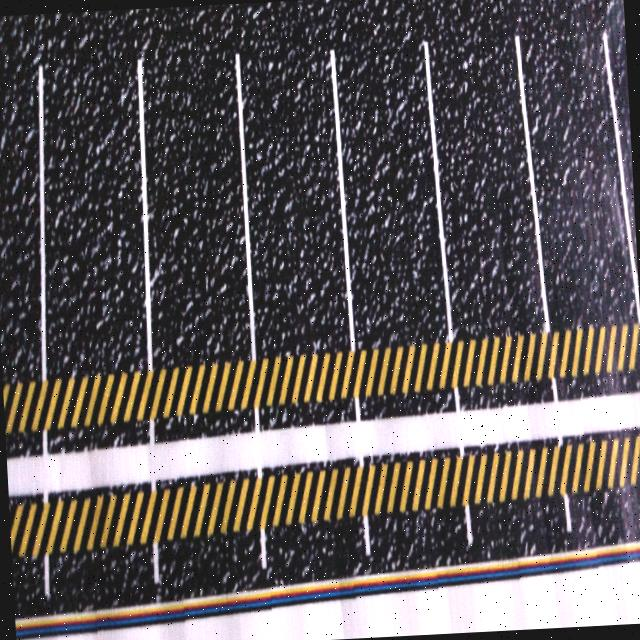slots: (521, 5, 637, 327), (242, 21, 348, 356), (339, 12, 445, 346), (145, 42, 250, 367), (45, 40, 145, 375), (432, 37, 543, 336)
